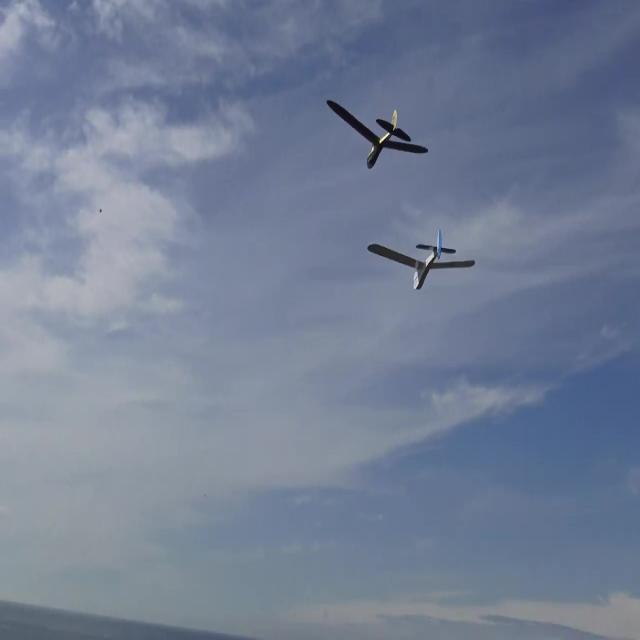iha: (357, 132, 398, 136), (398, 259, 444, 260)
